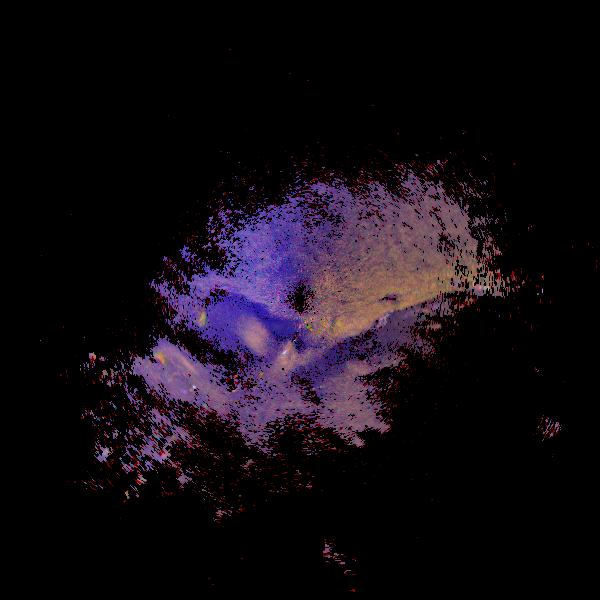roost: (149, 350, 170, 371), (192, 312, 207, 327)
